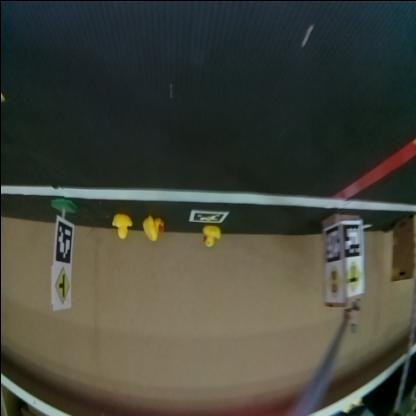Duckie: (110, 215, 131, 237), (142, 216, 161, 240), (202, 225, 220, 247)
Intersection sign: (53, 267, 69, 306), (346, 261, 362, 295)
QR code: (53, 219, 73, 264), (323, 223, 341, 261), (341, 222, 360, 256), (188, 209, 228, 224)
Signal sign: (325, 265, 341, 303)
